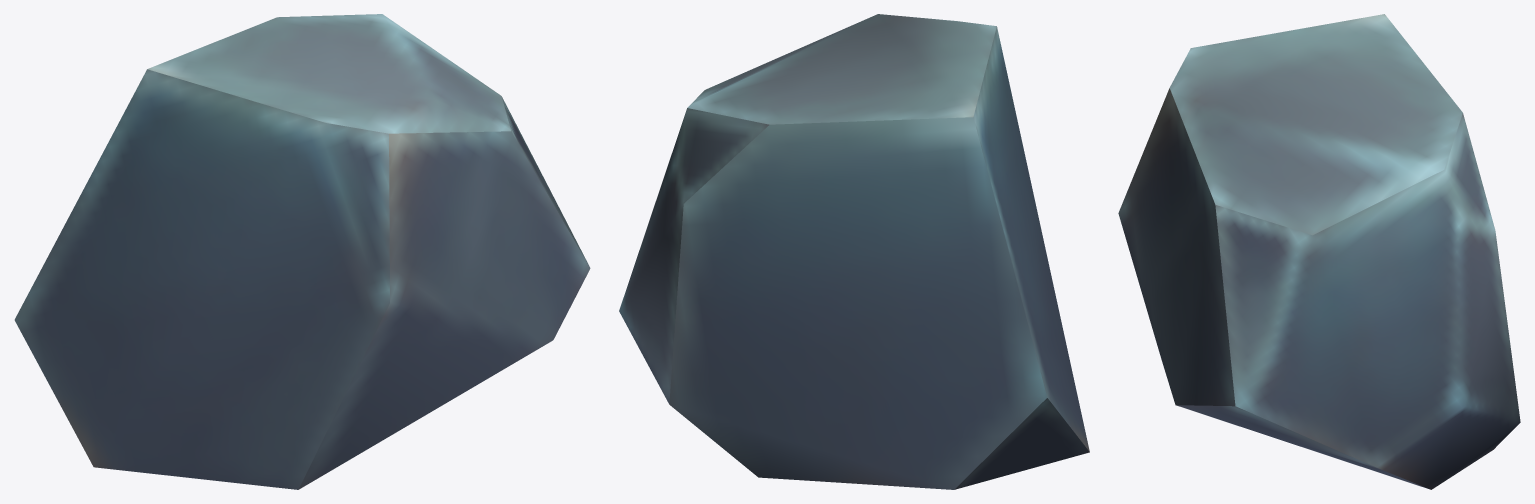
Rendered from Iron.fbx.
The picture shows the model from 3 angles, left to right: view 1: azimuth 30°, elevation 25°; view 2: azimuth 150°, elevation 25°; view 3: azimuth 270°, elevation 25°; orthographic projection. The views are drawn at different scales.
Visible parts, largest first — view 1: field_rocks_iron_01; view 2: field_rocks_iron_01; view 3: field_rocks_iron_01.
Part boxes in pixels (x1,y1,x2,y2): field_rocks_iron_01: (14, 14, 590, 489); field_rocks_iron_01: (619, 14, 1089, 489); field_rocks_iron_01: (1118, 14, 1520, 489).
Size of the model in its own units: 22.71 by 17.41 by 17.57.
